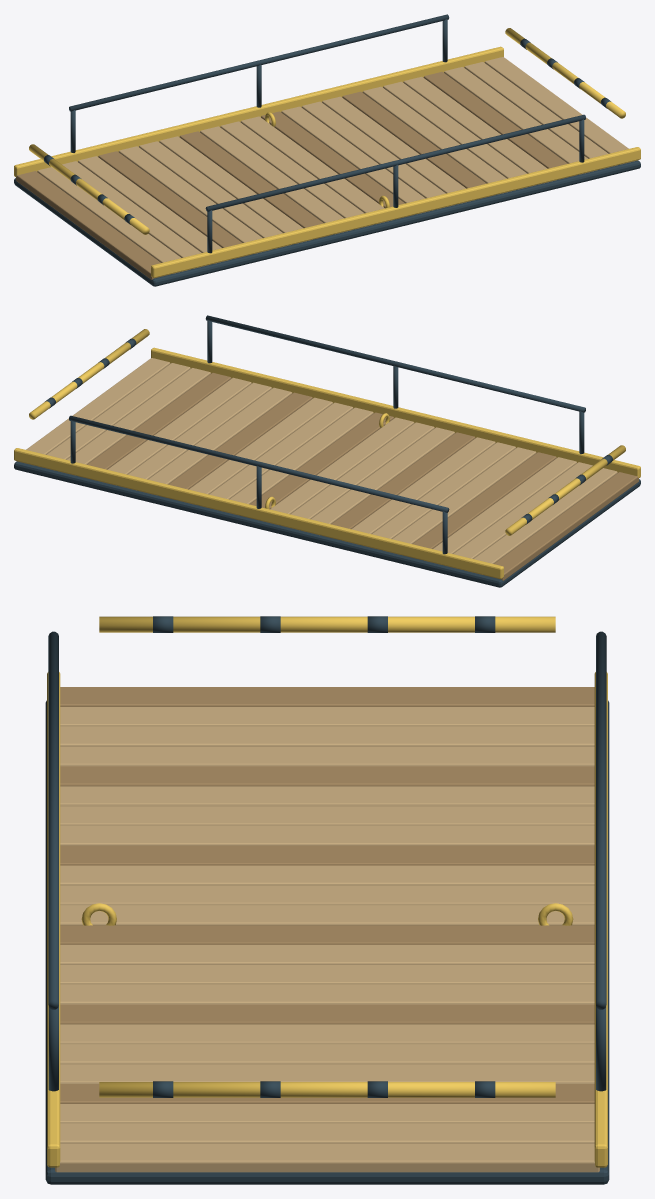
The model's file is lift.glb.
3 renders of one model, top to bottom at view 1: azimuth 30°, elevation 25°; view 2: azimuth 150°, elevation 25°; view 3: azimuth 270°, elevation 25°, orthographic. The views are drawn at different scales.
Parts seen in each view (by area): view 1: tyaga-lift-platform-surface, barrier-back-surface, barrier-front-surface; view 2: tyaga-lift-platform-surface, barrier-front-surface, barrier-back-surface; view 3: tyaga-lift-platform-surface, barrier-back-surface, barrier-front-surface.
Boxes of the visible parts, x1,y1,x2,y2 form: tyaga-lift-platform-surface: (14,14,640,286); barrier-back-surface: (29,144,149,234); barrier-front-surface: (505,28,625,118); tyaga-lift-platform-surface: (14,315,640,587); barrier-front-surface: (29,329,149,419); barrier-back-surface: (505,445,625,535); tyaga-lift-platform-surface: (45,631,609,1184); barrier-back-surface: (99,616,555,632); barrier-front-surface: (99,1081,555,1097).
Size of the model in its own units: 8.4 by 1.2 by 4.2.
